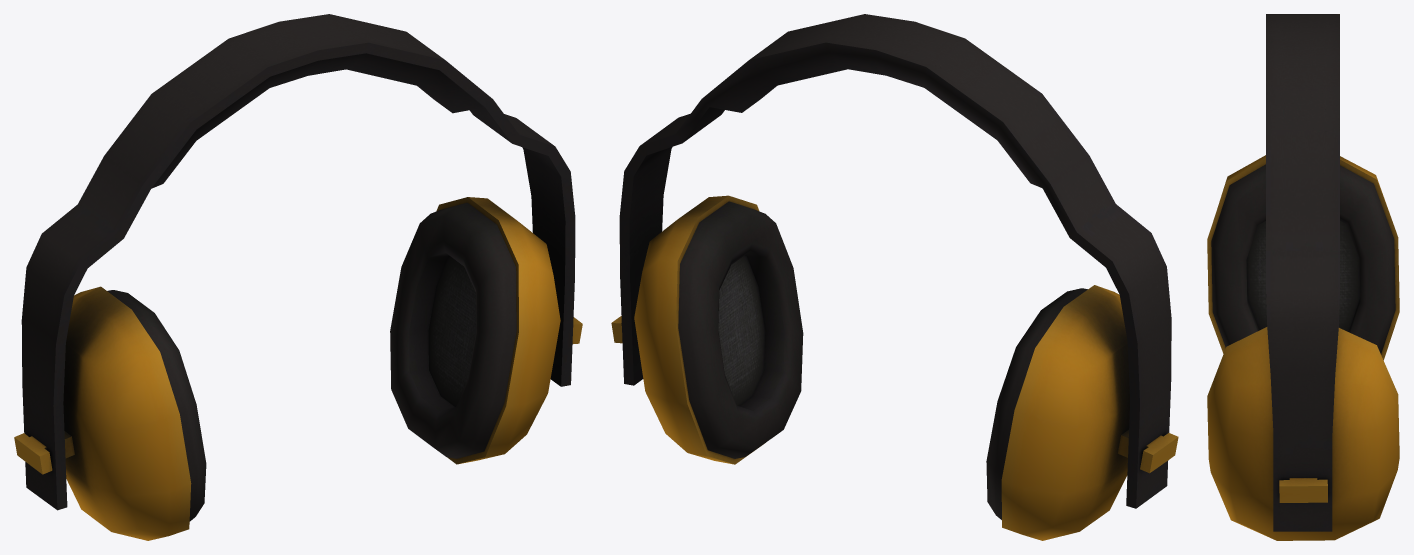
The model's file is Orejeras.FBX.
3 renders of one model, left to right at view 1: azimuth 30°, elevation 25°; view 2: azimuth 150°, elevation 25°; view 3: azimuth 270°, elevation 25°, orthographic. The views are drawn at different scales.
Visible parts, largest first — view 1: Orejeras; view 2: Orejeras; view 3: Orejeras.
Part boxes in pixels (x1,y1,x2,y2): Orejeras: (14, 14, 582, 540); Orejeras: (611, 14, 1178, 540); Orejeras: (1207, 14, 1399, 540).
Size of the model in its own units: 0.2727 by 0.2181 by 0.0884.
1 material, 1 textured.
